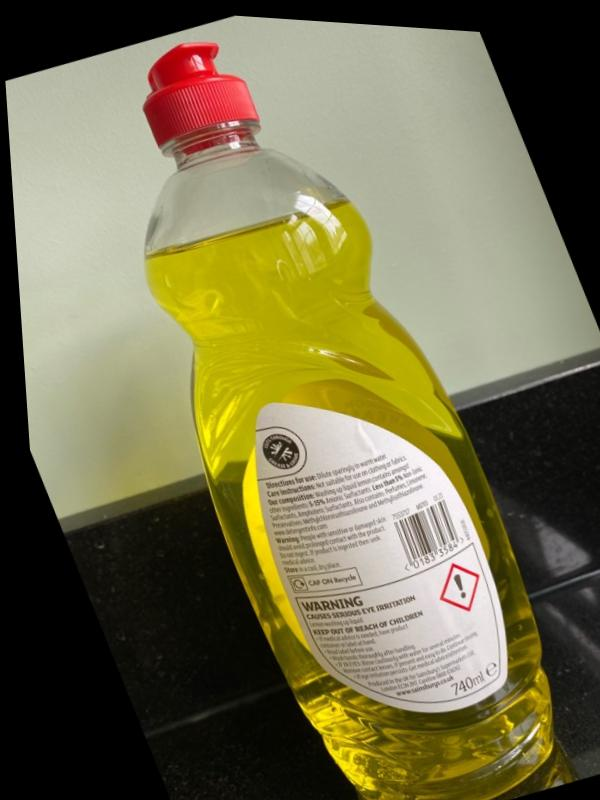plastic: (67, 0, 599, 799)
